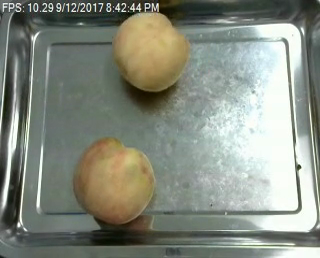Peach: (72, 137, 156, 225), (112, 10, 190, 91)
